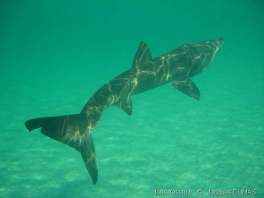shark: (16, 18, 239, 190)
